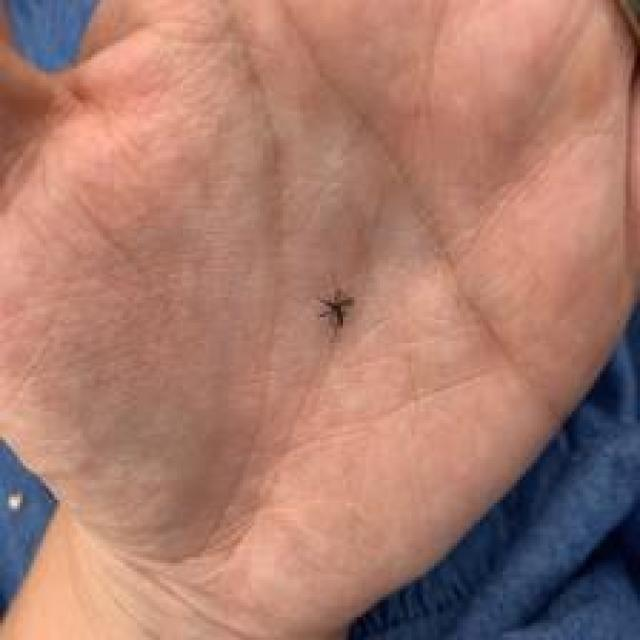Aedes albopictus: (316, 287, 356, 333)
